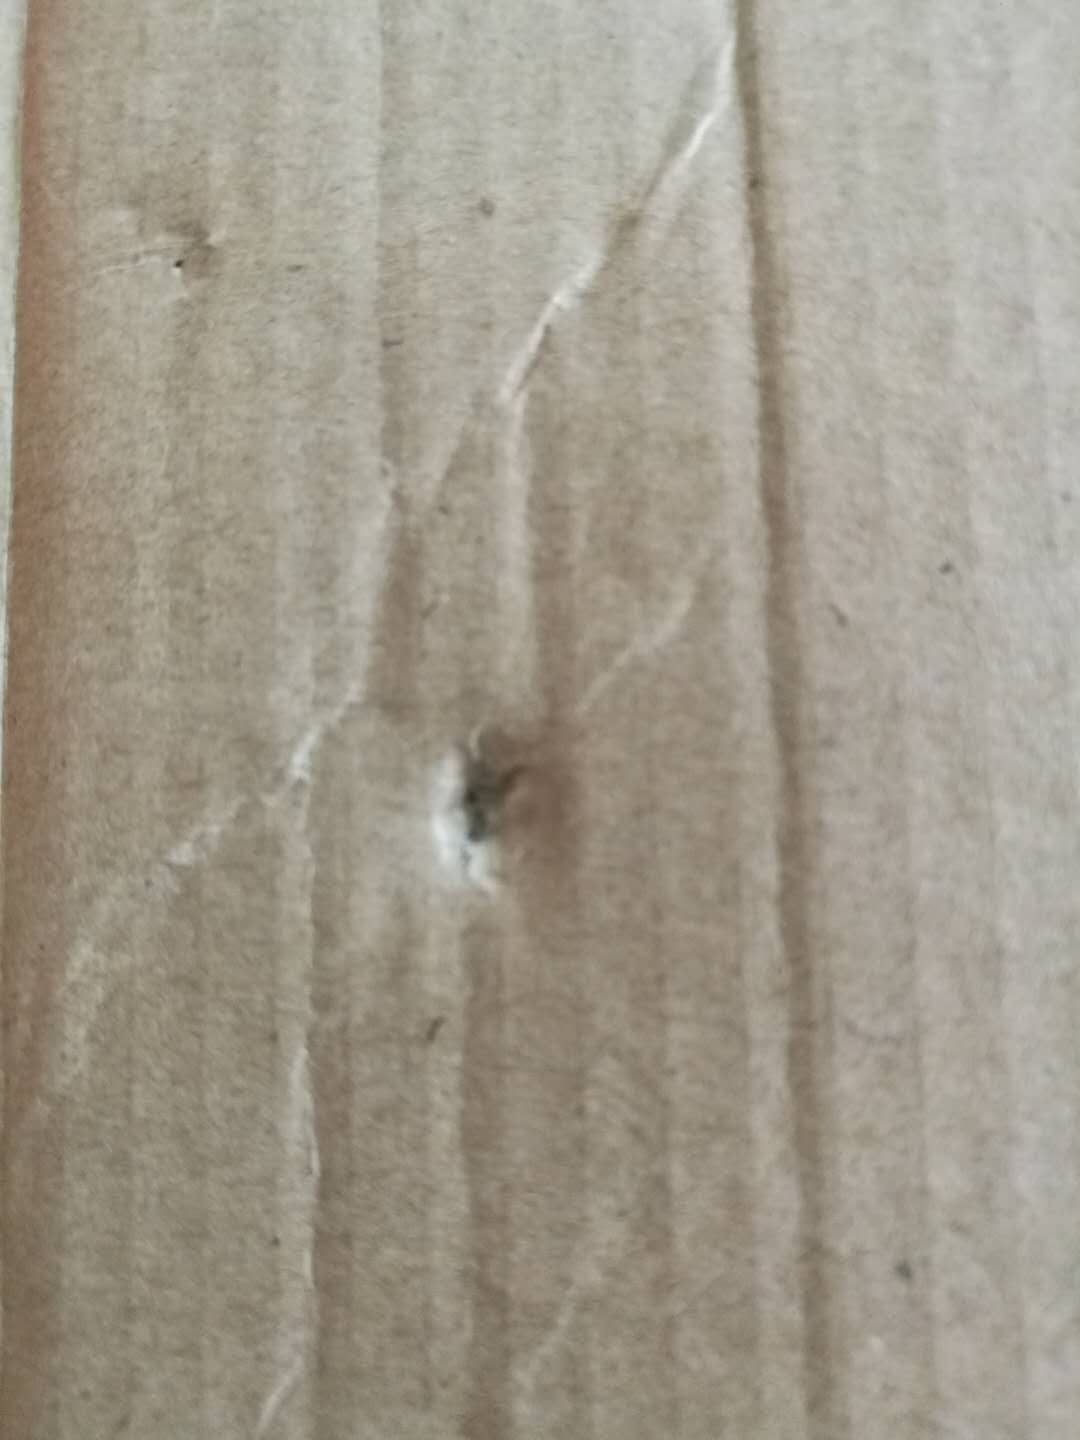defect: (668, 5, 951, 1435), (239, 670, 423, 1440), (391, 904, 605, 1440), (337, 2, 492, 715), (403, 664, 615, 927), (3, 5, 85, 616)
